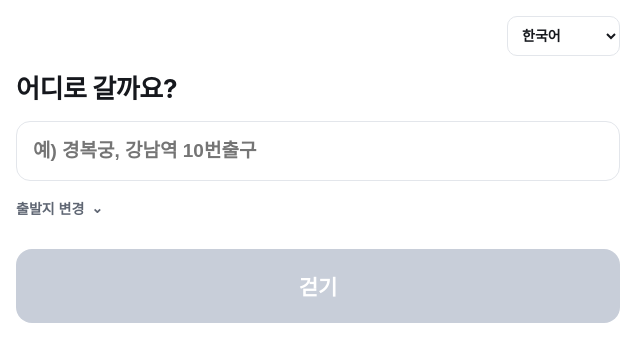
Test: TEST H — 언어 전환은 실제 화면의 향후 안내에 적용된다 › 홈 화면의 주 언어를 영어로 바꾸면 목적지 UI도 즉시 바뀐다
Step 1. Select "English" in the dropdown named "언어" → (564, 36), box [507,16,620,56]
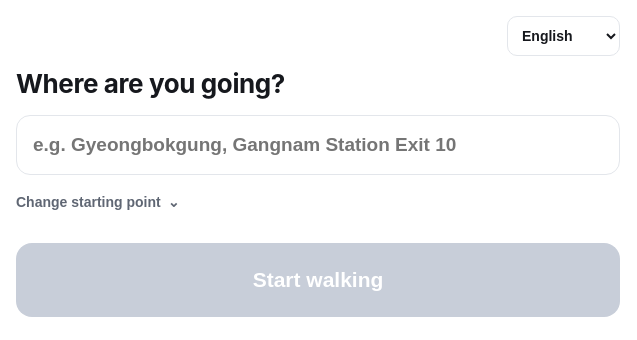
Now the heading "Where are you going?" is shown, box [16,68,285,99]
Now the search field named "Destination" is shown, box [16,115,620,175]
Now the button "Start walking" is shown, box [16,243,620,317]
